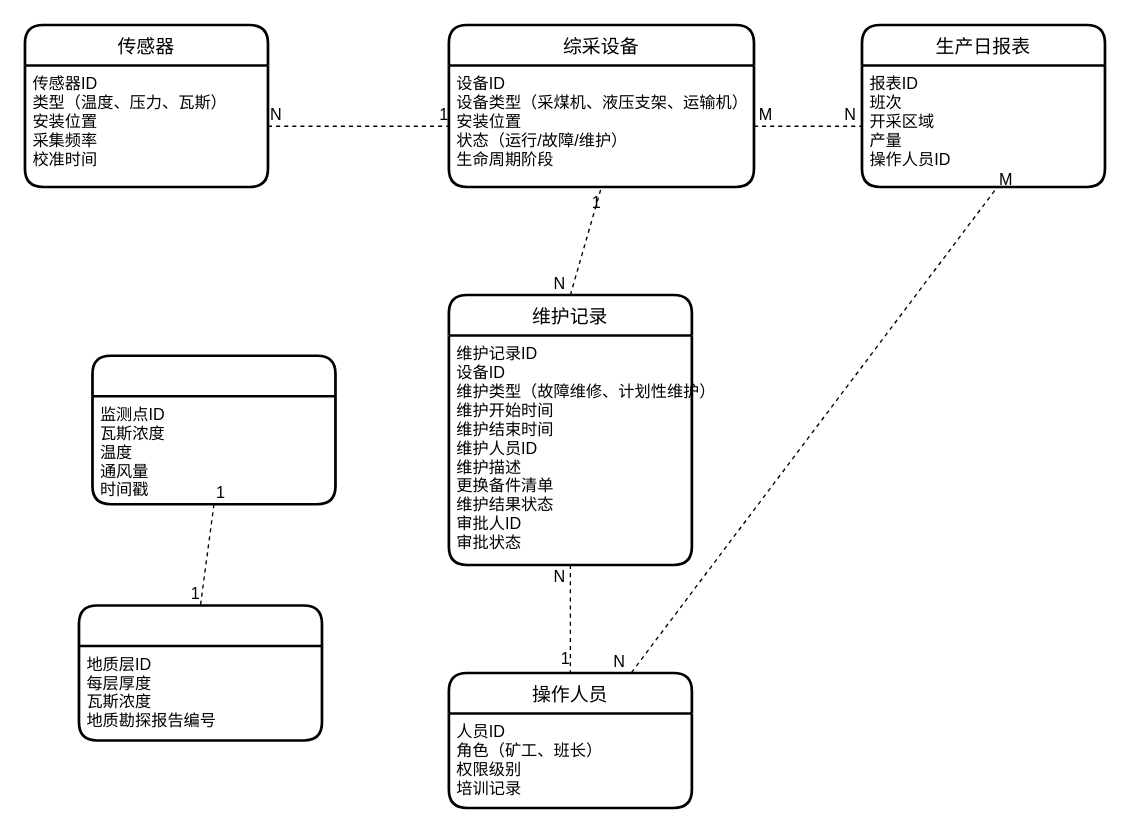
Image size: 1129x832. Some labels were removed from this diagram. Each missing label, with the box of its shape:
地质层数据: (77, 603, 323, 741)
安全监测数据: (90, 354, 336, 505)
